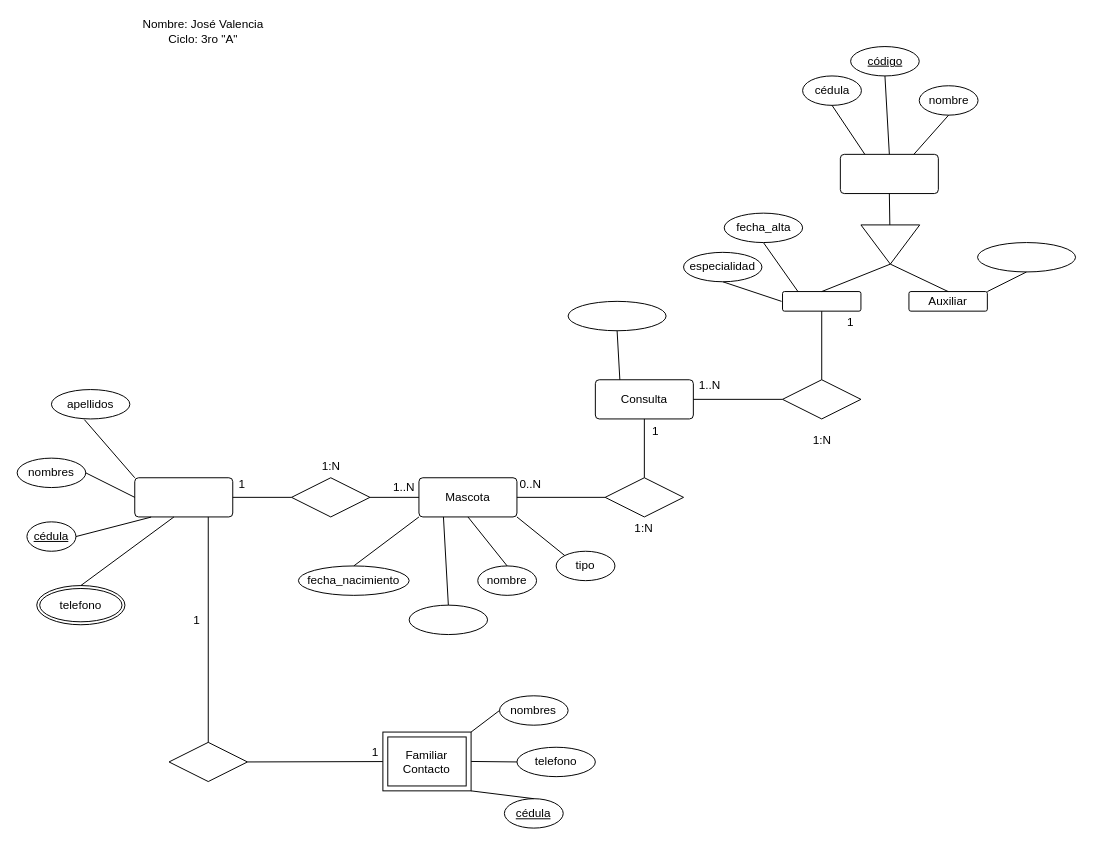
Image size: 1093x845. Some labels were removed from this diagram. Each missing label, with the centre of its shape:
"asisten" belongs at point (644, 497).
"atiende" belongs at point (821, 399).
"base_cotizacion" belongs at point (1026, 257).
"diagnostico" belongs at point (616, 315).
"identificador" belongs at point (448, 619).
"lleva" belongs at point (330, 497).
"Personal" belongs at point (888, 173).
"Propietario" belongs at point (183, 497).
"tiene" belongs at point (207, 761).
"Veterinario" belongs at point (821, 301).
